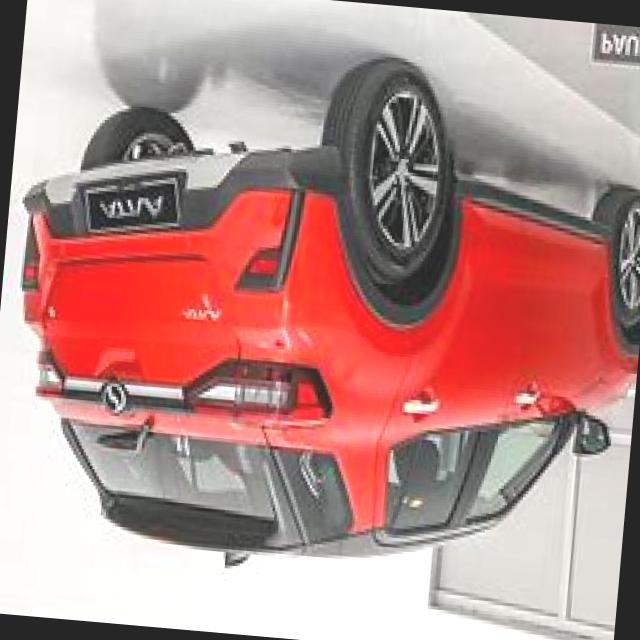PeroduaAtiva: (0, 25, 640, 605)
